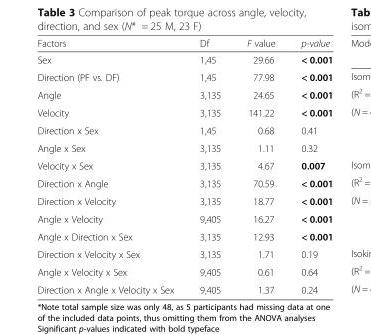table: (36, 37, 332, 294)
table column: (36, 37, 186, 294), (233, 37, 287, 294), (186, 37, 233, 294), (287, 37, 332, 294)
table column header: (36, 37, 332, 50)
table row: (36, 50, 332, 68), (36, 85, 332, 103), (36, 103, 332, 121), (36, 138, 332, 156), (36, 156, 332, 174), (36, 191, 332, 209), (36, 209, 332, 227), (36, 227, 332, 245), (36, 262, 332, 280), (36, 68, 332, 85), (36, 121, 332, 138), (36, 174, 332, 191), (36, 245, 332, 262), (36, 280, 332, 294), (36, 37, 332, 50)
